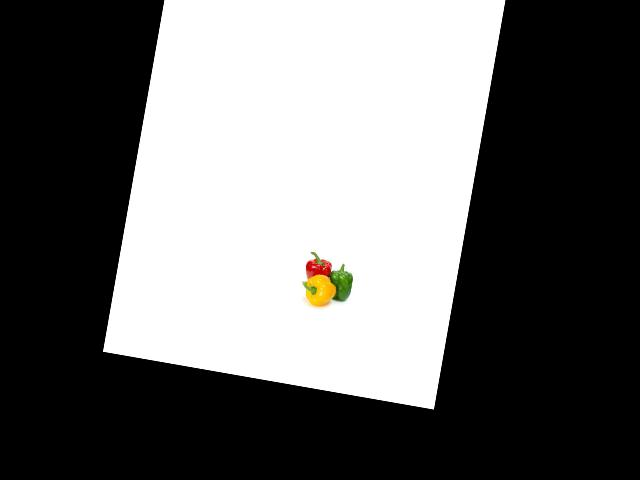bell_pepper: (298, 247, 338, 287)
